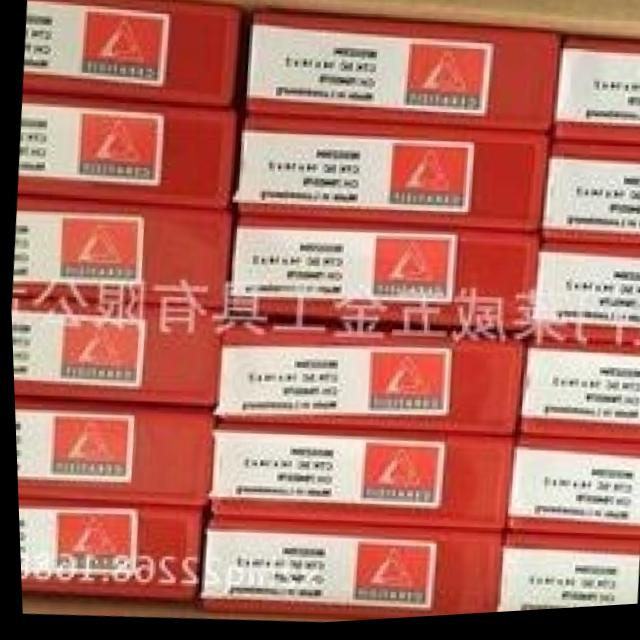box: (241, 13, 557, 139), (233, 118, 548, 238), (212, 321, 522, 441), (224, 219, 537, 336), (206, 426, 513, 537), (192, 519, 499, 624), (15, 94, 236, 211), (10, 196, 230, 312), (21, 0, 239, 109), (9, 295, 218, 408), (12, 397, 212, 510), (15, 502, 198, 603), (499, 441, 640, 548), (528, 244, 640, 358), (517, 354, 640, 449), (492, 537, 636, 618), (540, 148, 640, 253), (551, 43, 640, 153)
